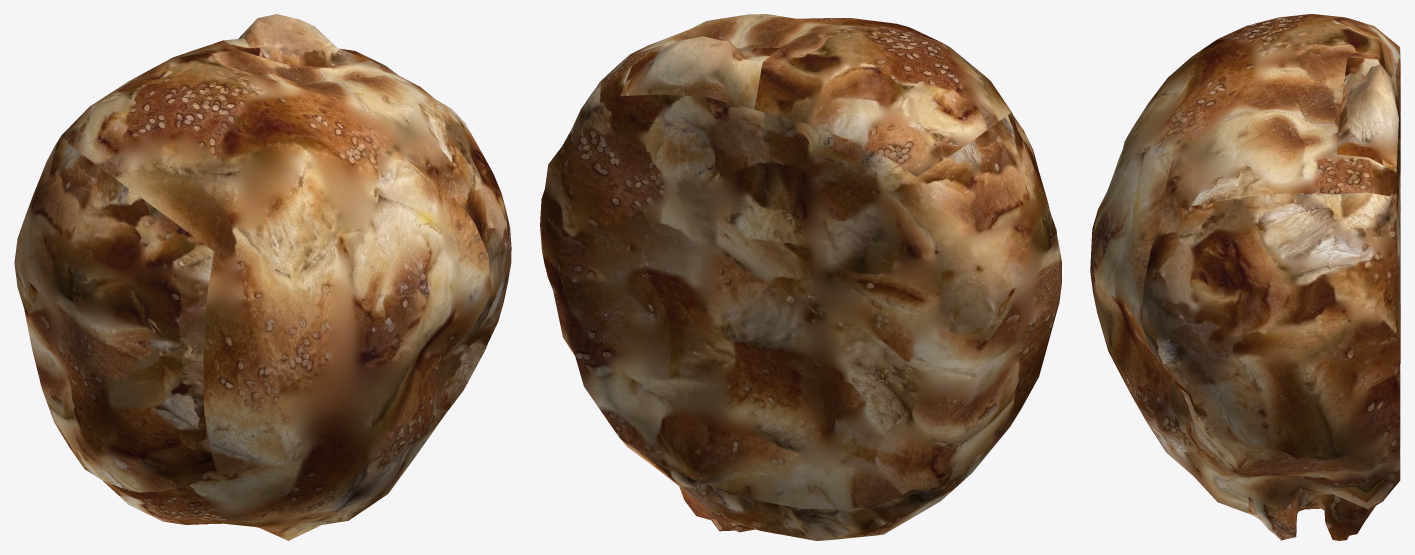
3 renders of one model, left to right at view 1: azimuth 30°, elevation 25°; view 2: azimuth 150°, elevation 25°; view 3: azimuth 270°, elevation 25°, orthographic. The views are drawn at different scales.
Bounding box in the file's own units: 0.9563 × 1 × 0.6002.
